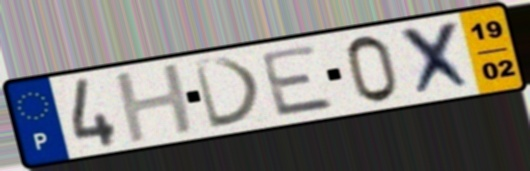0: (344, 32, 401, 106)
4: (69, 75, 121, 151)
D: (189, 55, 266, 132)
E: (256, 42, 339, 120)
H: (111, 60, 200, 147)
X: (396, 17, 479, 100)
